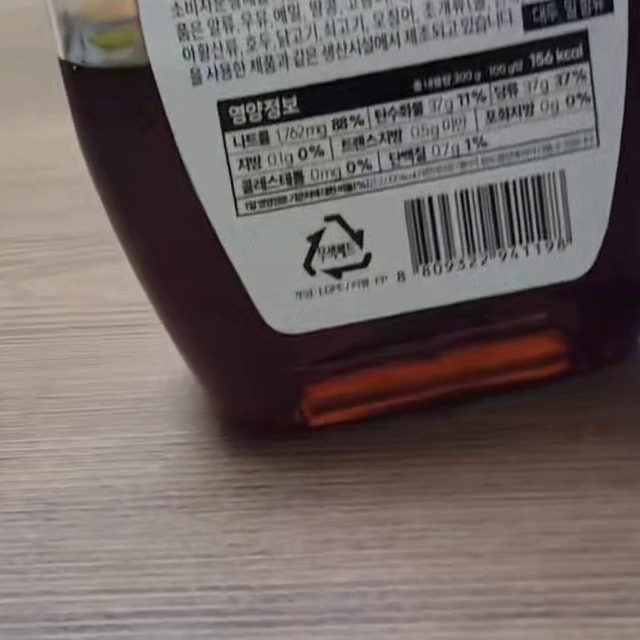ColorlessPet: (301, 213, 374, 282)
